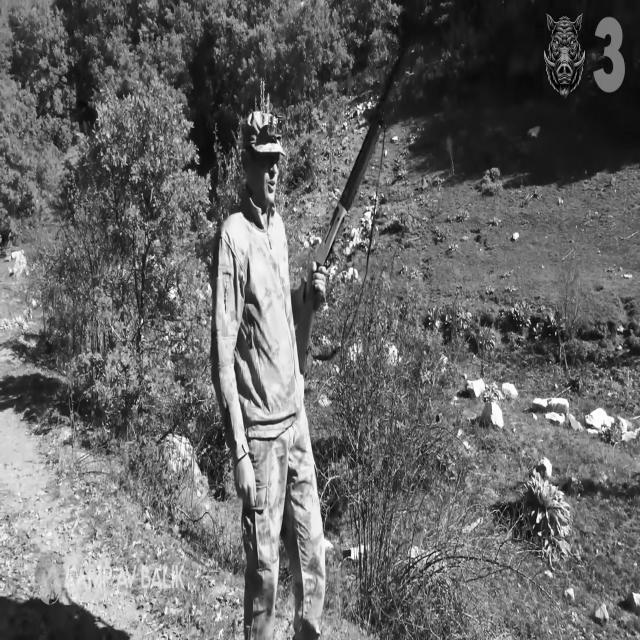boar: (544, 14, 584, 96)
monkey: (211, 111, 326, 638)
